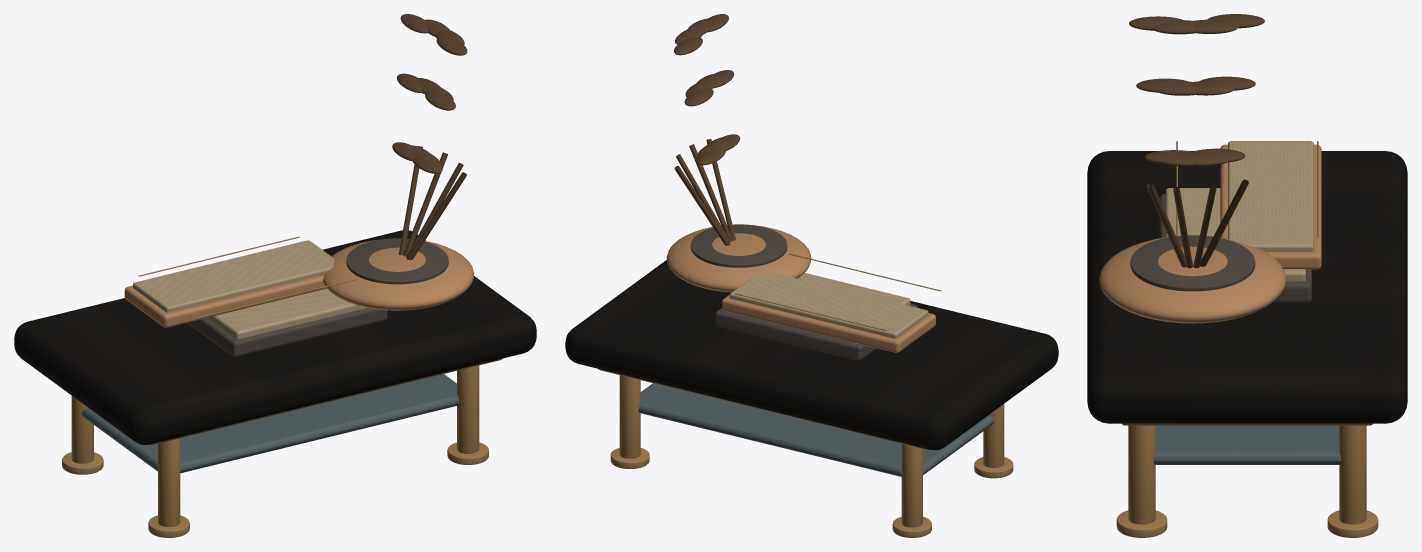
The model's file is coffee-table.glb.
The picture shows the model from 3 angles, left to right: view 1: azimuth 30°, elevation 25°; view 2: azimuth 150°, elevation 25°; view 3: azimuth 270°, elevation 25°; orthographic projection. The views are drawn at different scales.
Visible parts, largest first — view 1: Marble slab, Lower smoked glass shelf, Art book pages, Shallow sculptural bowl, Design book pages, Black design book, Terracotta art book, Bowl inner shadow, Brass tapered leg.001, Brass tapered leg.003, Brass tapered leg, Decor branch.003 (+5 smaller); view 2: Marble slab, Lower smoked glass shelf, Art book pages, Shallow sculptural bowl, Terracotta art book, Black design book, Bowl inner shadow, Brass tapered leg, Brass tapered leg.002, Brass tapered leg.001, Design book pages, Decor branch.002; view 3: Marble slab, Art book pages, Shallow sculptural bowl, Lower smoked glass shelf, Bowl inner shadow, Brass tapered leg.002, Brass tapered leg.003, Design book pages, Terracotta art book, Black design book, Foot pad.002, Foot pad.003 (+14 smaller).
Boxes of the visible parts, x1,y1,x2,y2 form: Marble slab: (14, 230, 536, 444); Lower smoked glass shelf: (82, 374, 459, 473); Art book pages: (133, 240, 334, 312); Shallow sculptural bowl: (323, 239, 474, 310); Design book pages: (207, 288, 367, 339); Black design book: (188, 308, 387, 356); Terracotta art book: (124, 275, 326, 327); Bowl inner shadow: (346, 238, 448, 284); Brass tapered leg.001: (158, 438, 180, 526); Brass tapered leg.003: (457, 365, 479, 453); Brass tapered leg: (71, 396, 93, 463); Decor branch.003: (406, 172, 466, 260); Marble slab: (565, 260, 1058, 450); Lower smoked glass shelf: (638, 383, 994, 476); Art book pages: (729, 272, 928, 338); Shallow sculptural bowl: (666, 225, 811, 292); Terracotta art book: (722, 294, 935, 352); Black design book: (715, 303, 917, 360); Bowl inner shadow: (690, 224, 787, 267); Brass tapered leg: (901, 444, 922, 527); Brass tapered leg.002: (619, 375, 640, 458); Brass tapered leg.001: (983, 404, 1004, 467); Design book pages: (722, 273, 910, 343); Decor branch.002: (689, 144, 732, 241); Marble slab: (1087, 151, 1407, 423); Art book pages: (1228, 141, 1313, 251); Shallow sculptural bowl: (1099, 236, 1286, 323); Lower smoked glass shelf: (1153, 425, 1341, 464); Bowl inner shadow: (1130, 235, 1255, 291); Brass tapered leg.002: (1339, 425, 1366, 524); Brass tapered leg.003: (1128, 425, 1155, 524); Design book pages: (1165, 188, 1305, 281); Terracotta art book: (1220, 144, 1321, 269); Black design book: (1159, 194, 1311, 302); Foot pad.002: (1327, 510, 1378, 537); Foot pad.003: (1116, 510, 1167, 537).
Bounding box in the file's own units: 1.46 × 1.42 × 0.82.
7 materials, 2 textured.
